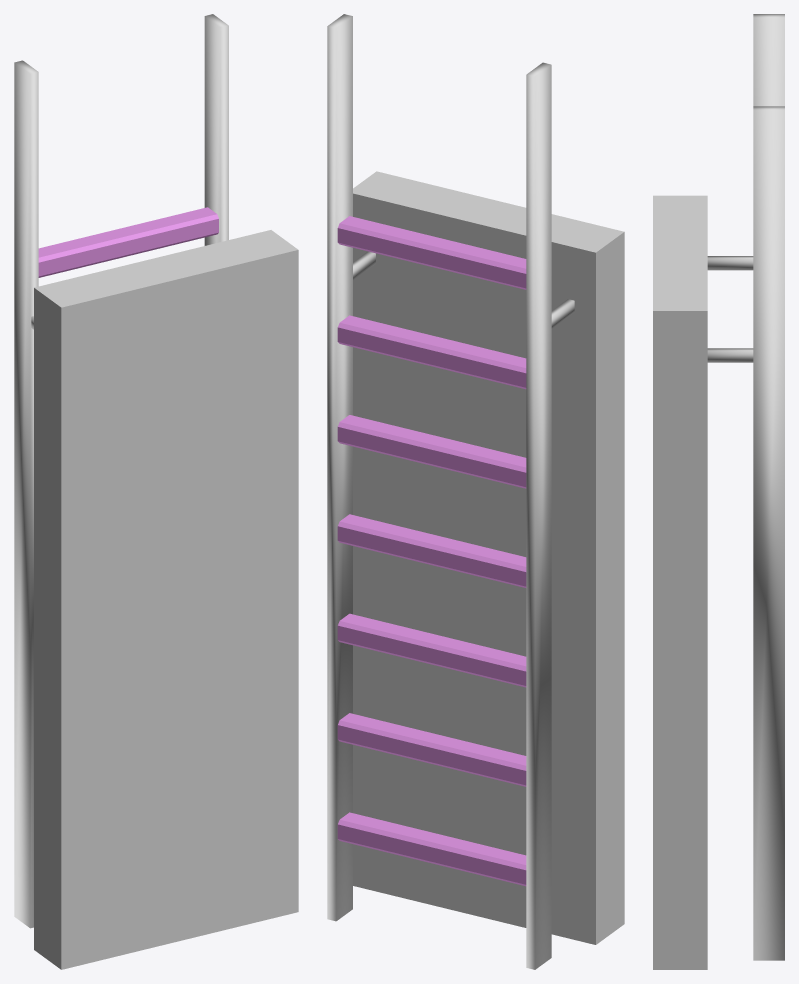
The model's file is ShortLadder.fbx.
The picture shows the model from 3 angles, left to right: view 1: azimuth 30°, elevation 25°; view 2: azimuth 150°, elevation 25°; view 3: azimuth 270°, elevation 25°; orthographic projection. The views are drawn at different scales.
Visible parts, largest first — view 1: ShortLadderBase, ShortLadder; view 2: ShortLadderBase, ShortLadder; view 3: ShortLadderBase, ShortLadder.
Part boxes in pixels (<box>): ShortLadderBase: <box>34,230,298,969</box>; ShortLadder: <box>14,14,228,928</box>; ShortLadderBase: <box>353,171,624,944</box>; ShortLadder: <box>327,14,574,969</box>; ShortLadderBase: <box>653,195,707,969</box>; ShortLadder: <box>707,14,784,960</box>.
Bounding box in the file's own units: 1 × 3.44 × 0.4839.
